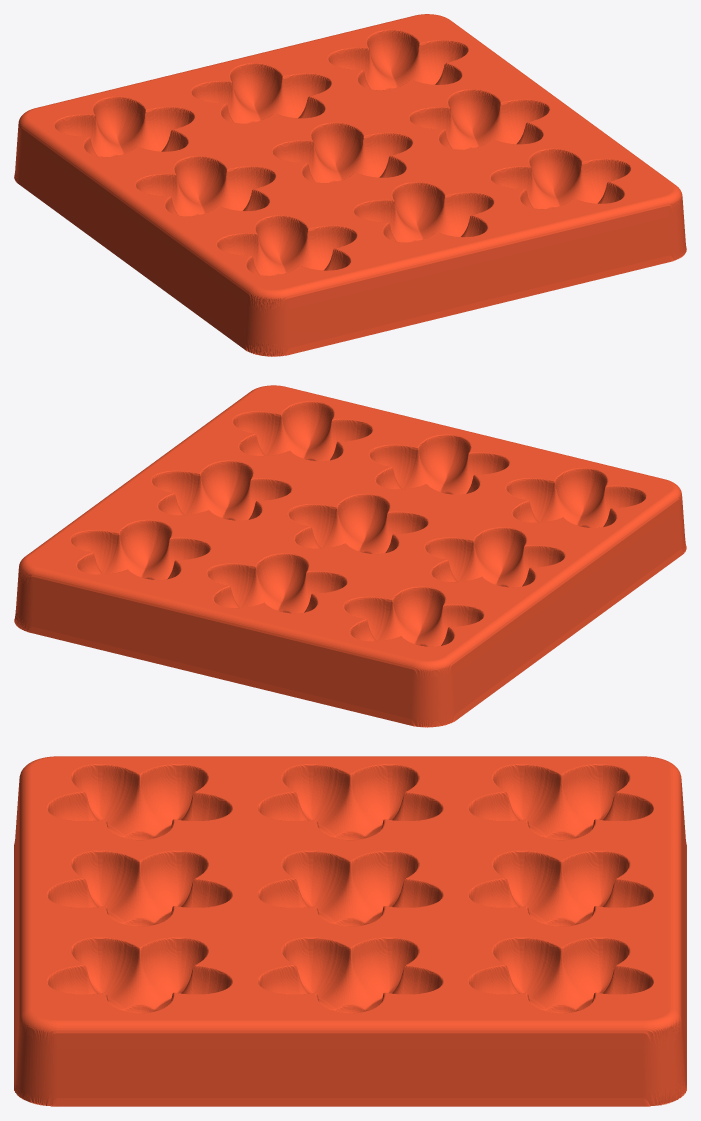
The model's file is mold.glb.
3 renders of one model, top to bottom at view 1: azimuth 30°, elevation 25°; view 2: azimuth 150°, elevation 25°; view 3: azimuth 270°, elevation 25°, orthographic. The views are drawn at different scales.
Visible parts, largest first — view 1: geometry_0; view 2: geometry_0; view 3: geometry_0.
Part boxes in pixels (x1,y1,x2,y2): geometry_0: [14, 14, 686, 356]; geometry_0: [14, 385, 686, 727]; geometry_0: [14, 756, 686, 1106].
Bounding box in the file's own units: 0.1366 × 0.0182 × 0.1402.
